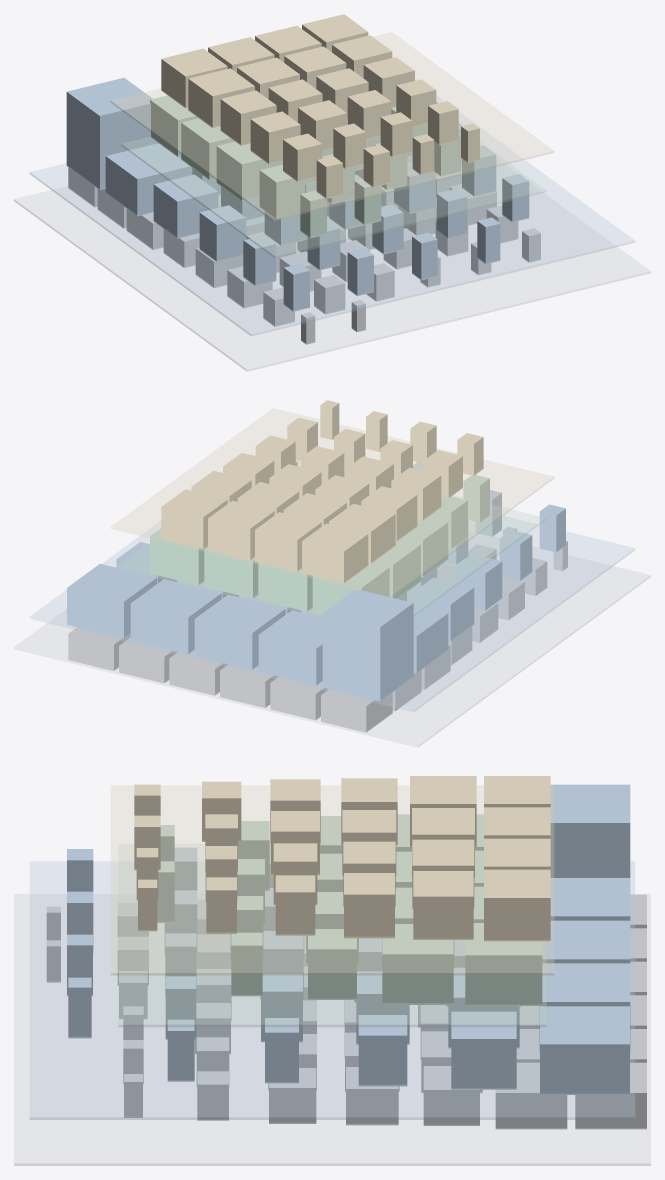
File: campus_twin_schematic.glb
3 views of the same model, one above another, from view 1: azimuth 30°, elevation 25°; view 2: azimuth 150°, elevation 25°; view 3: azimuth 270°, elevation 25° (orthographic). The views are drawn at different scales.
Parts seen in each view (by area): view 1: slab-storey_0SLmhMRV95B9NPlMAzXhZv, slab-storey_0XZfgApoH76vdPViCcsT6m, slab-storey_1mnZnZ29v9QRze4pjg0g3S, slab-storey_0IEk6ObD54bwMLfrOXff7W, space_3WAA5EqJ58HBqF0jqdihFg, space_3WAA5EqJ58HBqF0jqdihCl, space_3WAA5EqJ58HBqF0jqdihCX, space_3WAA5EqJ58HBqF0jqdihDB, space_3WAA5EqJ58HBqF0jqdihFx, space_3U1W8Xs6L9pRXU5Afk5MWh, space_3U1W8Xs6L9pRXU5Afk5MWB, space_3WAA5EqJ58HBqF0jqdihDD (+60 smaller); view 2: slab-storey_0SLmhMRV95B9NPlMAzXhZv, slab-storey_0XZfgApoH76vdPViCcsT6m, slab-storey_1mnZnZ29v9QRze4pjg0g3S, space_3WAA5EqJ58HBqF0jqdihFg, slab-storey_0IEk6ObD54bwMLfrOXff7W, space_3WAA5EqJ58HBqF0jqdihF7, space_3WAA5EqJ58HBqF0jqdihFN, space_3WAA5EqJ58HBqF0jqdihCd, space_3WAA5EqJ58HBqF0jqdihF$, space_3U1W8Xs6L9pRXU5Afk5MWB, space_3U1W8Xs6L9pRXU5Afk5MWH, space_3U1W8Xs6L9pRXU5Afk5MWf (+48 smaller); view 3: slab-storey_0XZfgApoH76vdPViCcsT6m, slab-storey_0SLmhMRV95B9NPlMAzXhZv, slab-storey_1mnZnZ29v9QRze4pjg0g3S, slab-storey_0IEk6ObD54bwMLfrOXff7W, space_3WAA5EqJ58HBqF0jqdihCd, space_3WAA5EqJ58HBqF0jqdihFg, space_3WAA5EqJ58HBqF0jqdihDL, space_3WAA5EqJ58HBqF0jqdihFB, space_3WAA5EqJ58HBqF0jqdihAf, space_3U1W8Xs6L9pRXU5Afk5MWf, space_3U1W8Xs6L9pRXU5Afk5MWV, space_3WAA5EqJ58HBqF0jqdihF7 (+77 smaller).
Boxes of the visible parts, bbox=[...] form: slab-storey_0SLmhMRV95B9NPlMAzXhZv: bbox=[14, 186, 650, 371]; slab-storey_0XZfgApoH76vdPViCcsT6m: bbox=[30, 96, 634, 335]; slab-storey_1mnZnZ29v9QRze4pjg0g3S: bbox=[111, 32, 553, 220]; slab-storey_0IEk6ObD54bwMLfrOXff7W: bbox=[121, 127, 546, 257]; space_3WAA5EqJ58HBqF0jqdihFg: bbox=[66, 77, 157, 189]; space_3WAA5EqJ58HBqF0jqdihCl: bbox=[105, 143, 192, 216]; space_3WAA5EqJ58HBqF0jqdihCX: bbox=[153, 174, 218, 238]; space_3WAA5EqJ58HBqF0jqdihDB: bbox=[216, 141, 282, 201]; space_3WAA5EqJ58HBqF0jqdihFx: bbox=[199, 205, 246, 261]; space_3U1W8Xs6L9pRXU5Afk5MWh: bbox=[188, 68, 254, 128]; space_3U1W8Xs6L9pRXU5Afk5MWB: bbox=[161, 48, 227, 108]; space_3WAA5EqJ58HBqF0jqdihDD: bbox=[181, 118, 234, 180]; slab-storey_0SLmhMRV95B9NPlMAzXhZv: bbox=[14, 547, 650, 747]; slab-storey_0XZfgApoH76vdPViCcsT6m: bbox=[30, 455, 634, 711]; slab-storey_1mnZnZ29v9QRze4pjg0g3S: bbox=[111, 408, 553, 596]; space_3WAA5EqJ58HBqF0jqdihFg: bbox=[322, 589, 413, 701]; slab-storey_0IEk6ObD54bwMLfrOXff7W: bbox=[118, 460, 546, 617]; space_3WAA5EqJ58HBqF0jqdihF7: bbox=[130, 579, 221, 654]; space_3WAA5EqJ58HBqF0jqdihFN: bbox=[194, 595, 285, 669]; space_3WAA5EqJ58HBqF0jqdihCd: bbox=[67, 563, 156, 638]; space_3WAA5EqJ58HBqF0jqdihF$: bbox=[258, 610, 322, 685]; space_3U1W8Xs6L9pRXU5Afk5MWB: bbox=[302, 523, 368, 583]; space_3U1W8Xs6L9pRXU5Afk5MWH: bbox=[208, 500, 274, 560]; space_3U1W8Xs6L9pRXU5Afk5MWf: bbox=[161, 489, 227, 548]; slab-storey_0XZfgApoH76vdPViCcsT6m: bbox=[30, 861, 634, 1119]; slab-storey_0SLmhMRV95B9NPlMAzXhZv: bbox=[14, 894, 650, 1165]; slab-storey_1mnZnZ29v9QRze4pjg0g3S: bbox=[111, 785, 553, 975]; slab-storey_0IEk6ObD54bwMLfrOXff7W: bbox=[118, 844, 546, 1026]; space_3WAA5EqJ58HBqF0jqdihCd: bbox=[540, 1006, 629, 1094]; space_3WAA5EqJ58HBqF0jqdihFg: bbox=[550, 784, 630, 877]; space_3WAA5EqJ58HBqF0jqdihDL: bbox=[465, 923, 542, 1005]; space_3WAA5EqJ58HBqF0jqdihFB: bbox=[451, 1011, 516, 1089]; space_3WAA5EqJ58HBqF0jqdihAf: bbox=[382, 924, 453, 1004]; space_3U1W8Xs6L9pRXU5Afk5MWf: bbox=[484, 869, 550, 941]; space_3U1W8Xs6L9pRXU5Afk5MWV: bbox=[413, 871, 473, 939]; space_3WAA5EqJ58HBqF0jqdihF7: bbox=[539, 963, 630, 1052].
Size of the model in its own units: 51.36 by 17.3 by 51.36.
